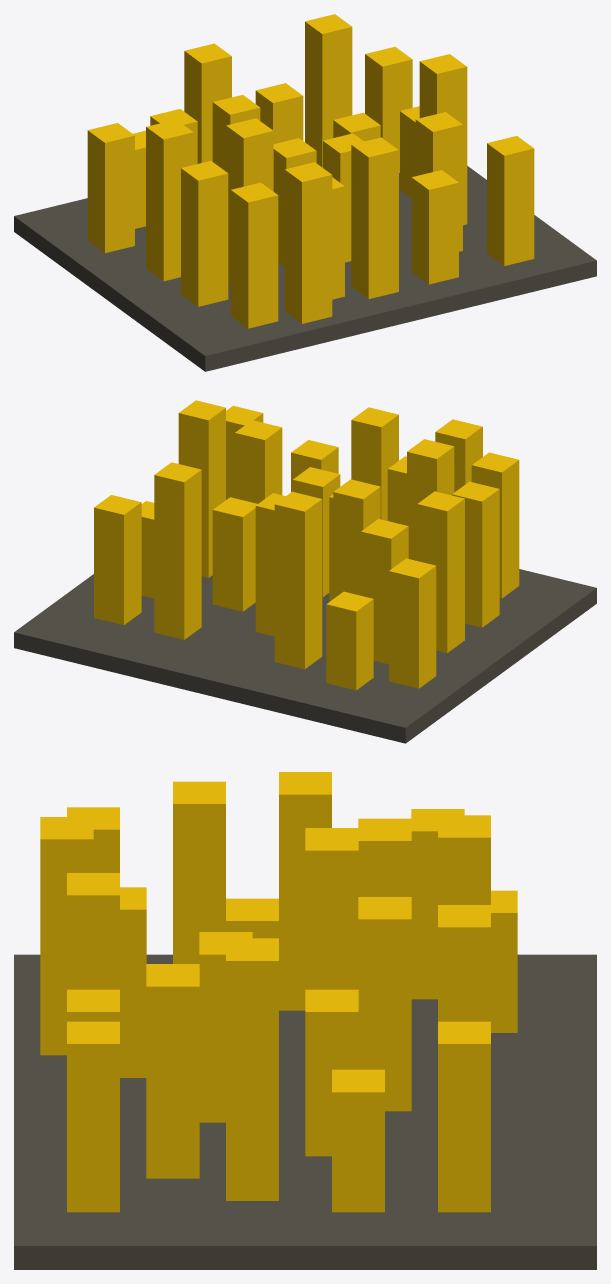
The model's file is WheatPatch.gltf.
The picture shows the model from 3 angles, top to bottom: view 1: azimuth 30°, elevation 25°; view 2: azimuth 150°, elevation 25°; view 3: azimuth 270°, elevation 25°; orthographic projection. The views are drawn at different scales.
Visible parts, largest first — view 1: Layer.1; view 2: Layer.1; view 3: Layer.1.
Boxes of the visible parts, x1,y1,x2,y2 form: Layer.1: [14, 14, 596, 371]; Layer.1: [14, 400, 596, 743]; Layer.1: [14, 772, 596, 1269].
Size of the model in its own units: 26 by 11 by 22.
1 material, 1 textured.
